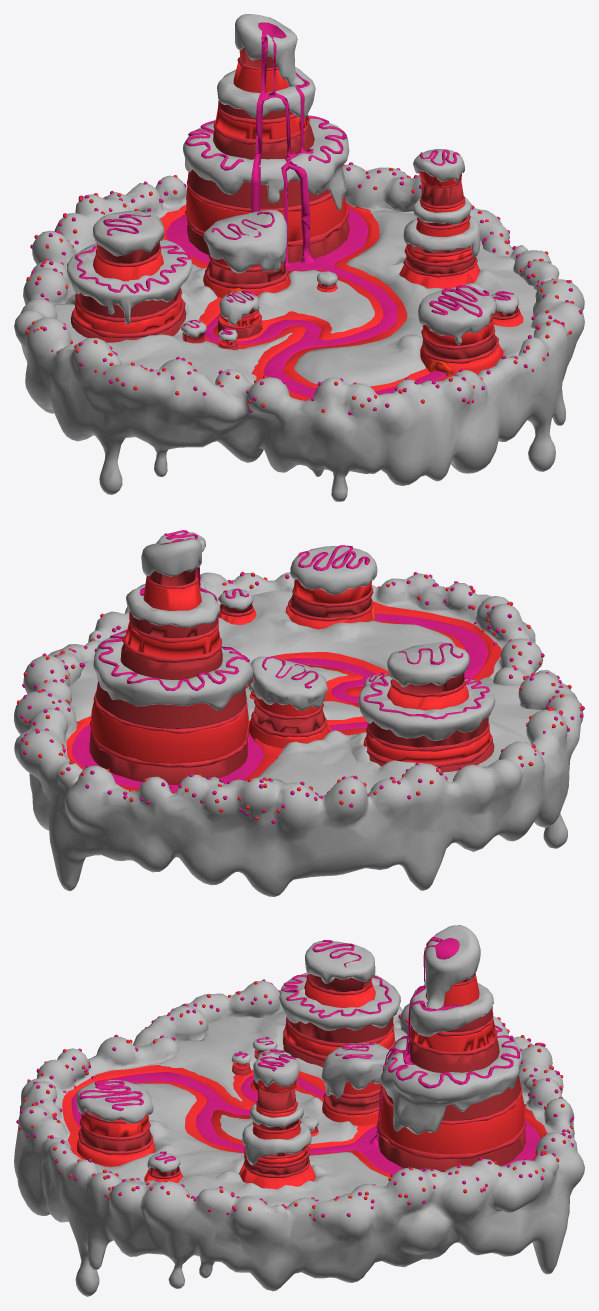
The model's file is bigCity-transformed.glb.
The picture shows the model from 3 angles, top to bottom: view 1: azimuth 30°, elevation 25°; view 2: azimuth 150°, elevation 25°; view 3: azimuth 270°, elevation 25°; orthographic projection. The views are drawn at different scales.
Parts seen in each view (by area): view 1: node_id61; view 2: node_id61; view 3: node_id61.
Boxes of the visible parts, left/top/right/bottom form: node_id61: left=14, top=14, right=584, bottom=501; node_id61: left=14, top=530, right=584, bottom=896; node_id61: left=14, top=925, right=584, bottom=1296.
Size of the model in its own units: 0.512 by 0.3388 by 0.5469.
1 material, 1 textured.
